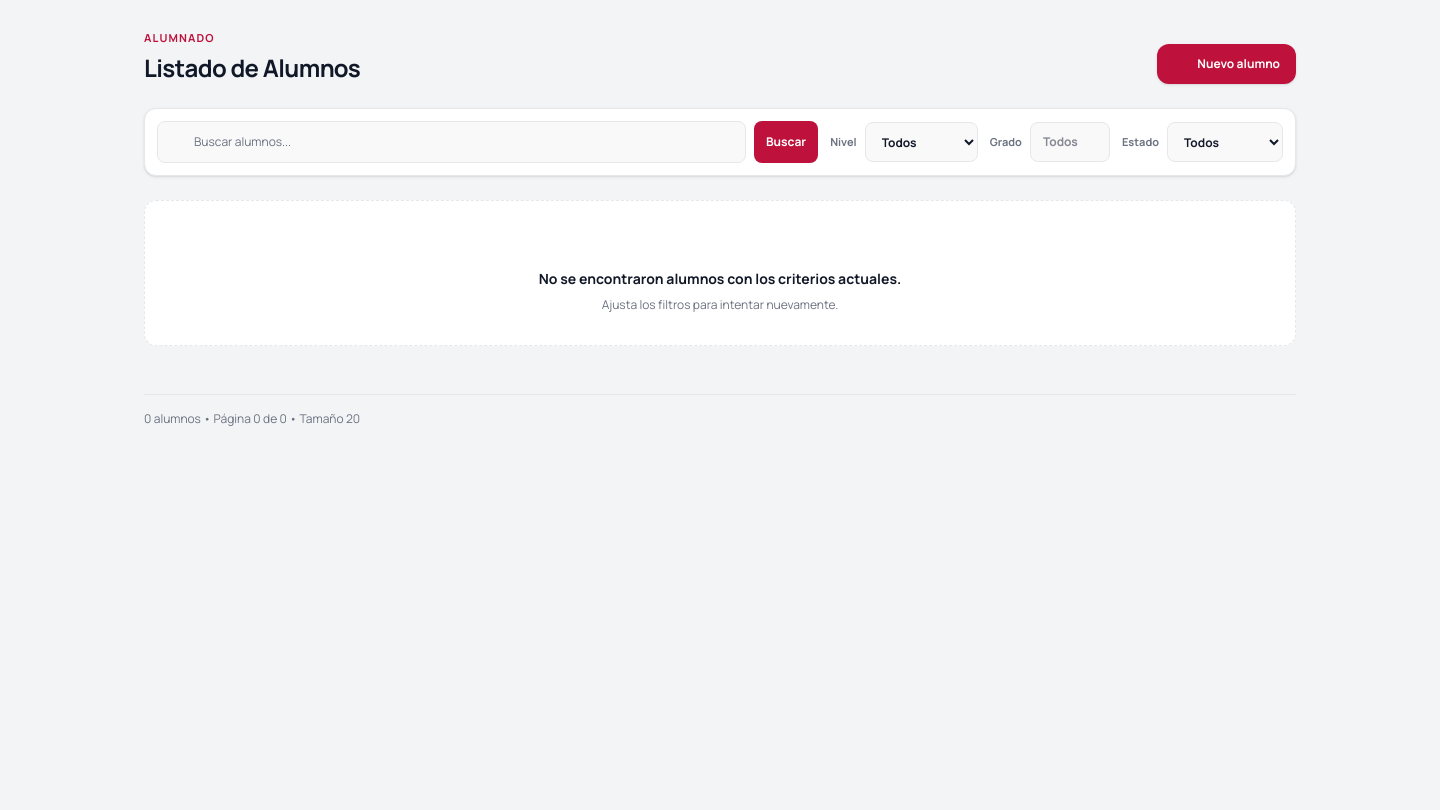
Scenario: create shows the catalog text for a recognized code and keeps HTTP texts and uncertainty otherwise
Click the button "Nuevo alumno".
click(1227, 64)  # box x1=1157 y1=44 x2=1296 y2=84
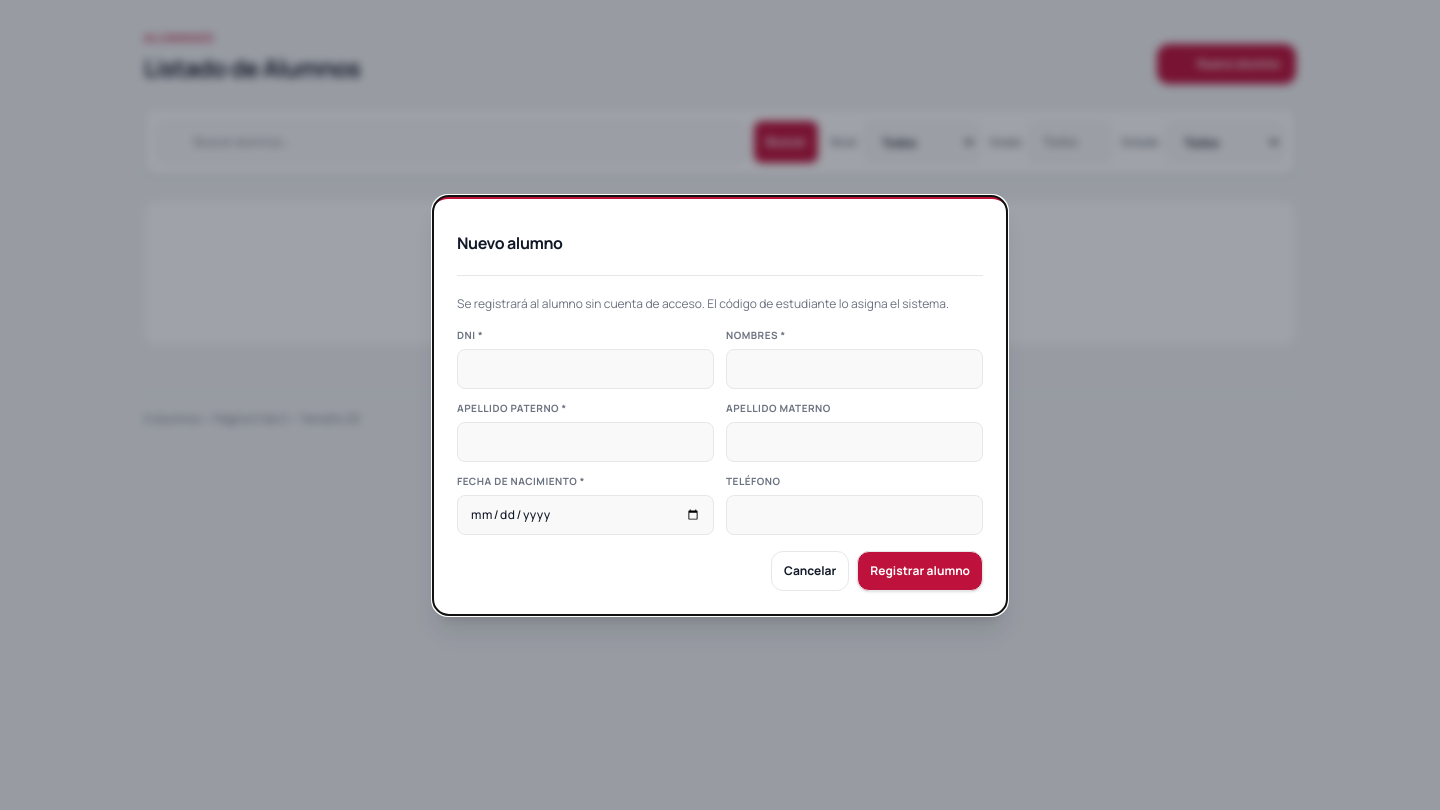
Type "12345678" into the field labelled "DNI *".
click(586, 368); type("12345678")  # box x1=457 y1=348 x2=714 y2=388
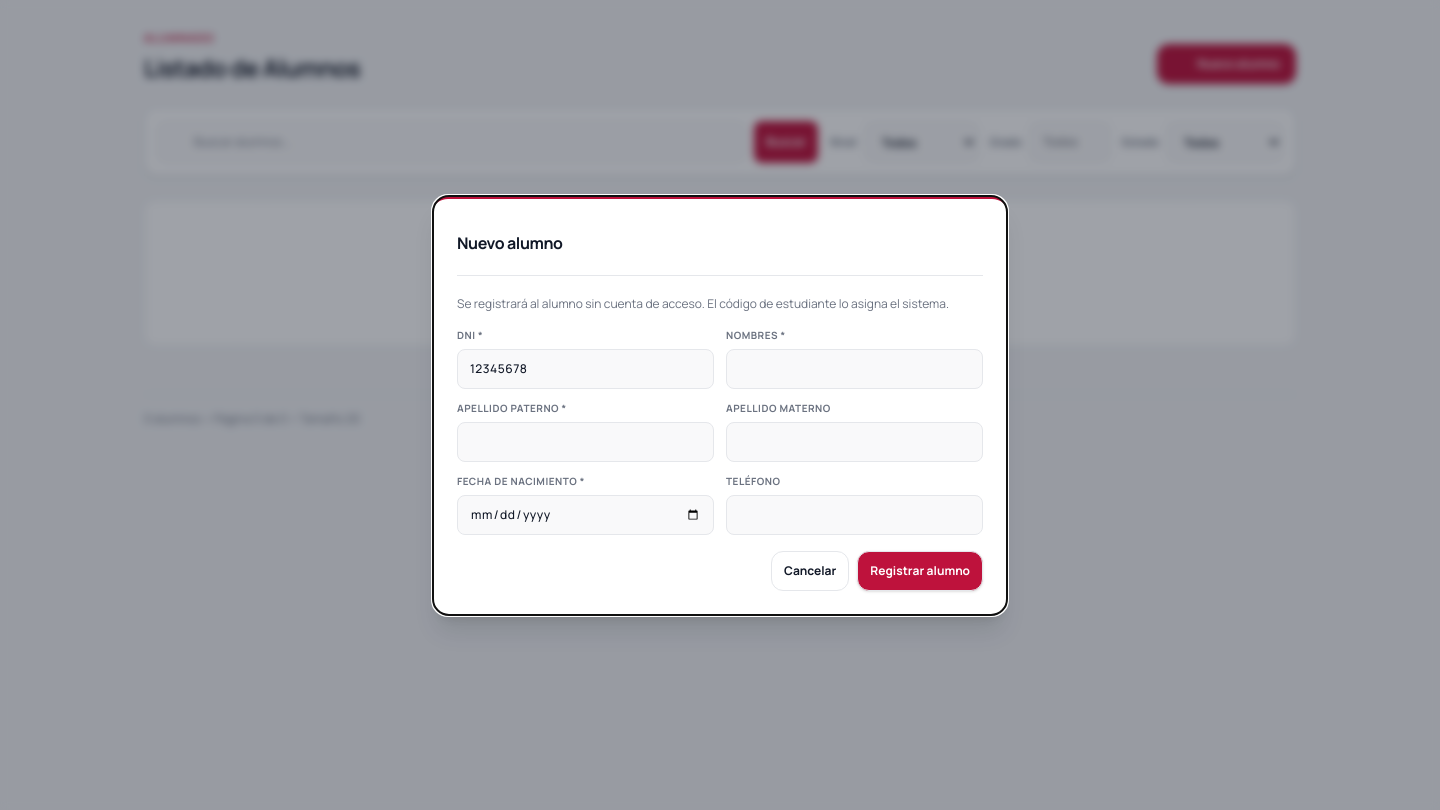
Type " Ana " into the field labelled "Nombres *".
click(854, 368); type(" Ana ")  # box x1=726 y1=348 x2=983 y2=388
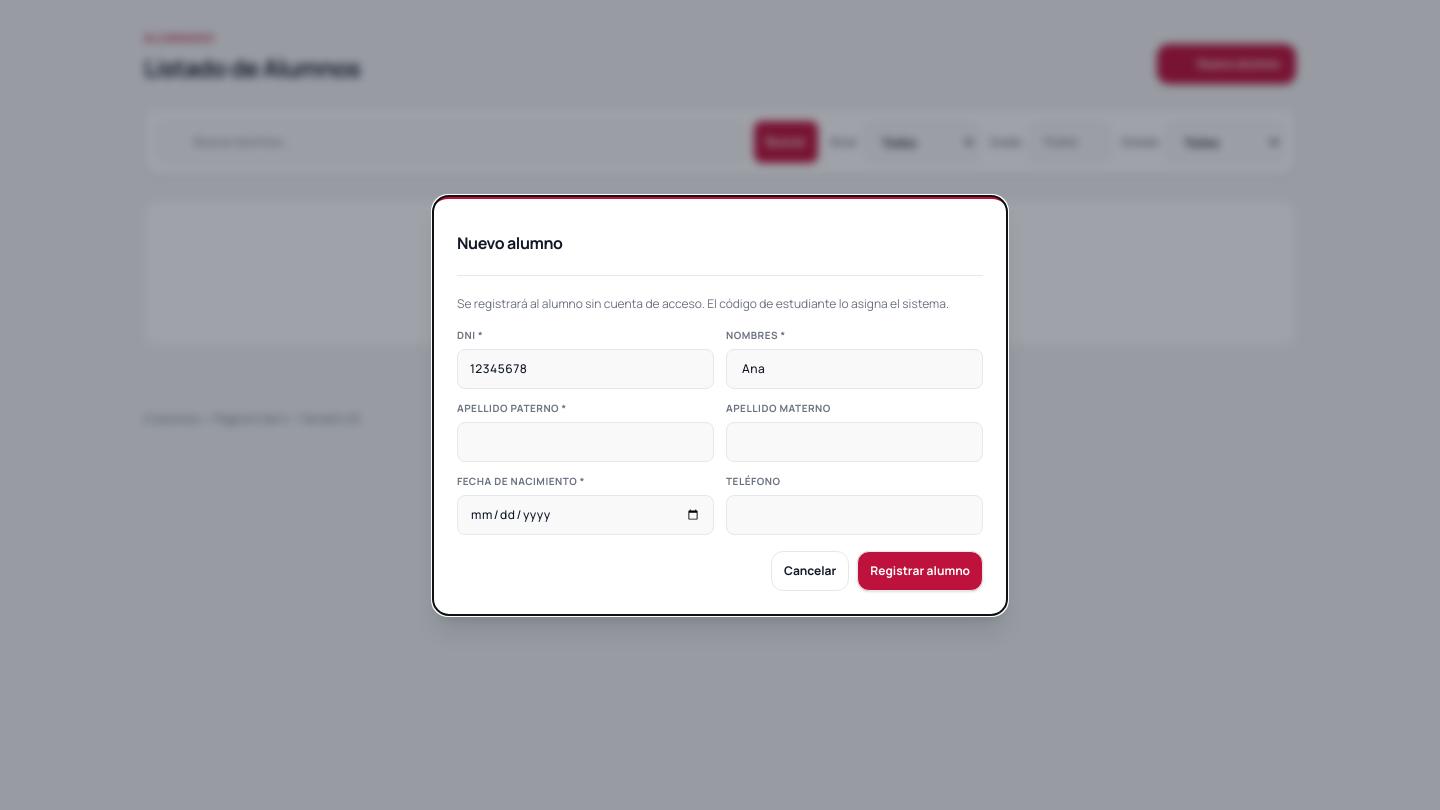
Type " Sintética " into the field labelled "Apellido paterno *".
click(586, 442); type(" Sintética ")  # box x1=457 y1=422 x2=714 y2=462
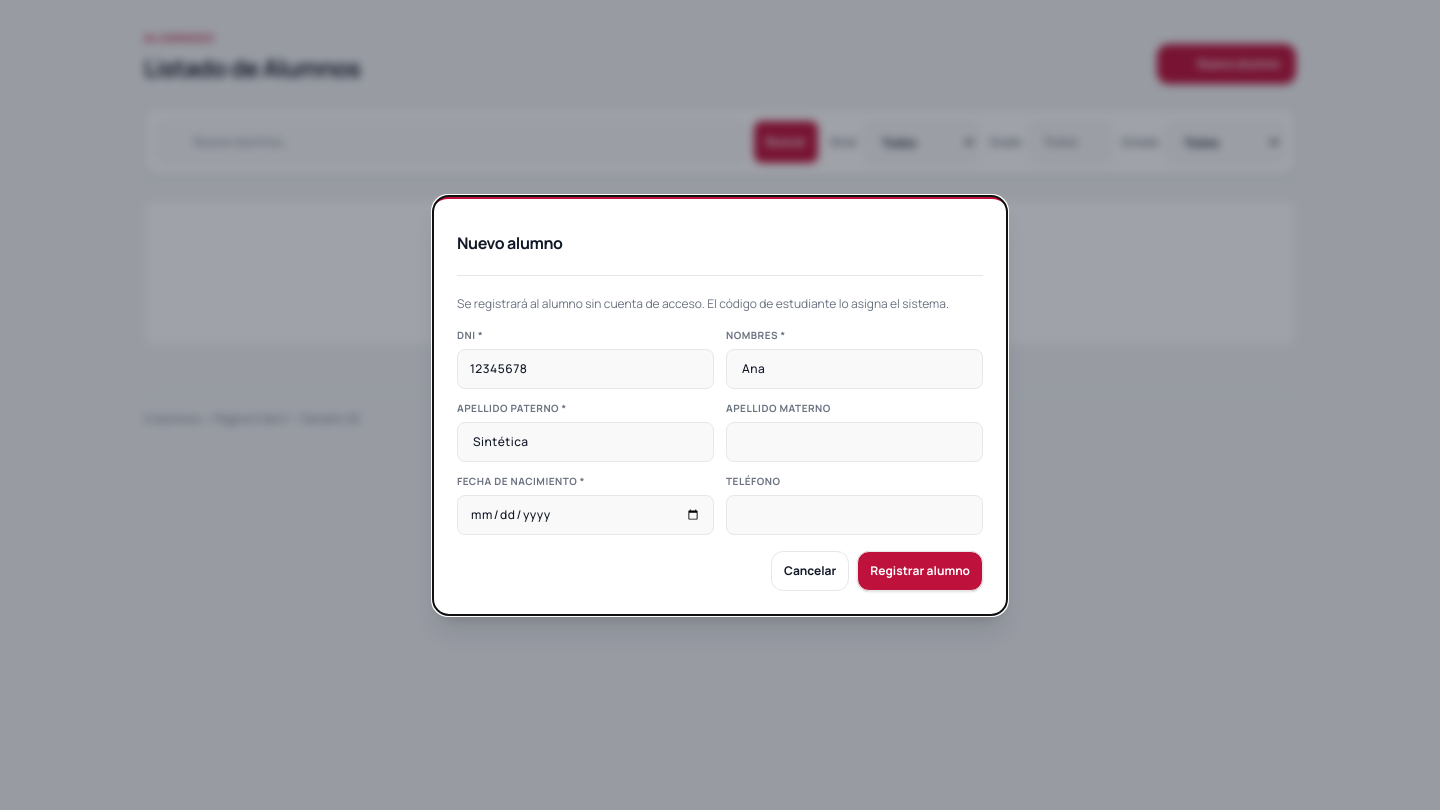
Type "2015-03-04" into the date field labelled "Fecha de nacimiento *".
click(586, 514); type("2015-03-04")  # box x1=457 y1=494 x2=714 y2=534
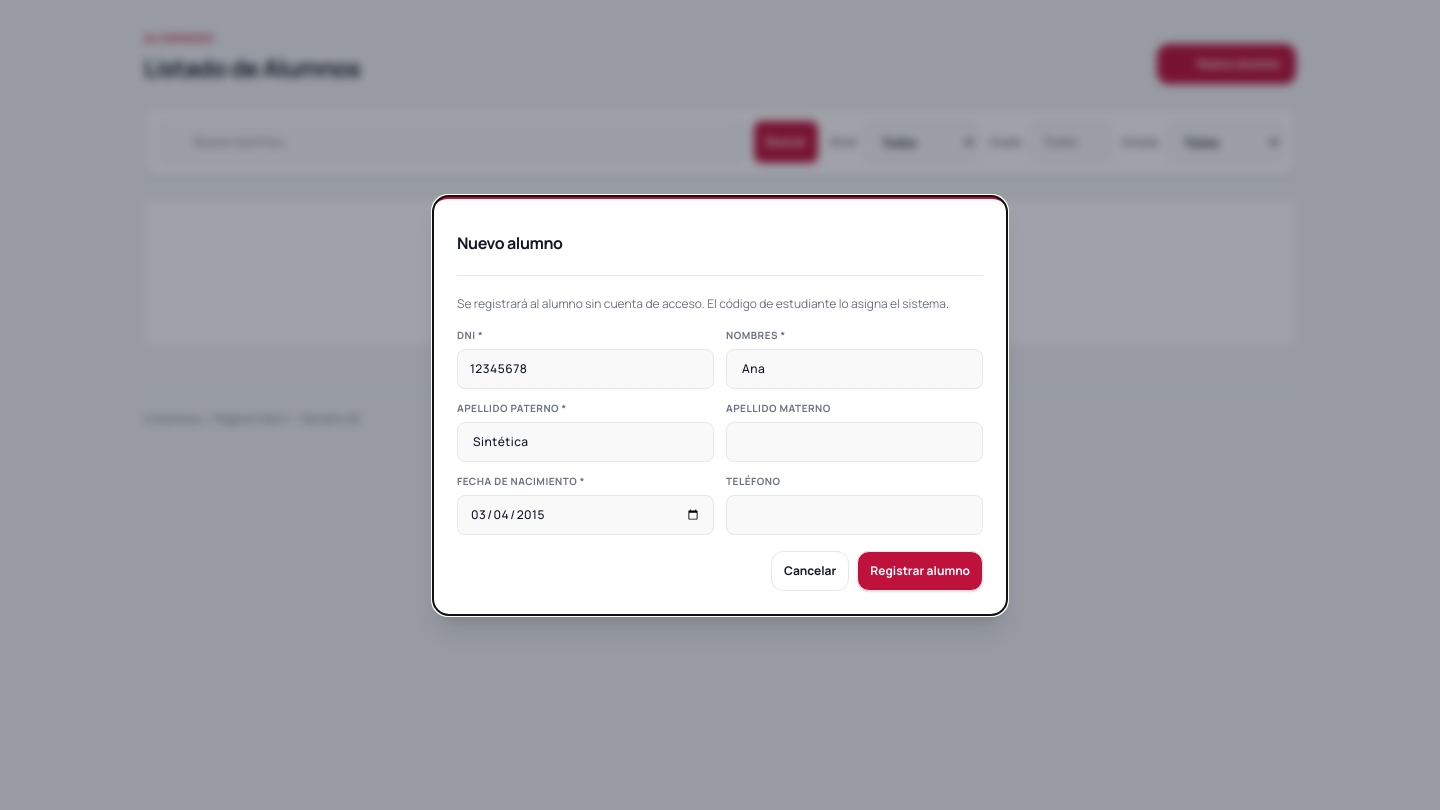
Submit the form, box x1=457 y1=296 x2=983 y2=590
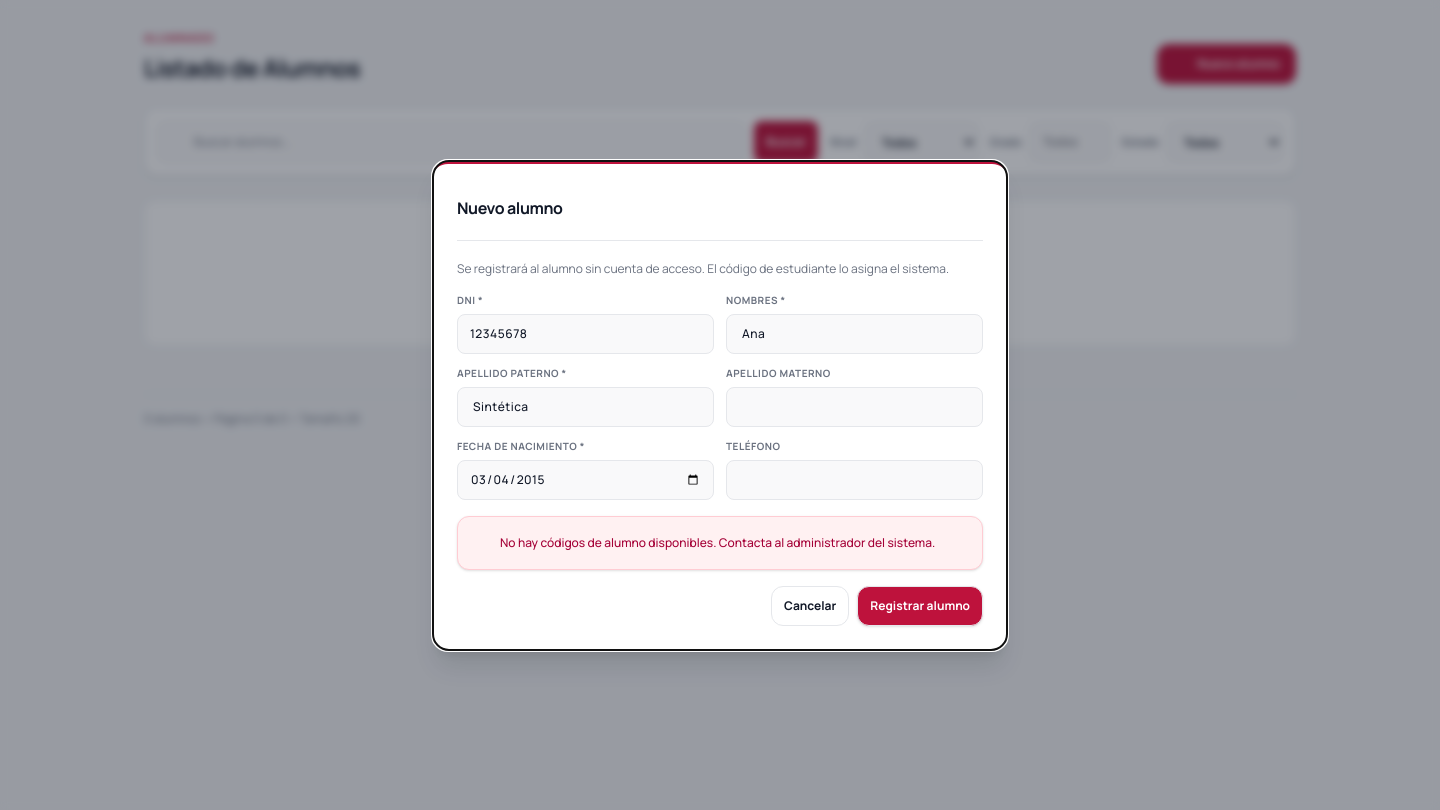
Now the text "No hay códigos de alumno disponibles" is shown, box x1=500 y1=534 x2=935 y2=550
